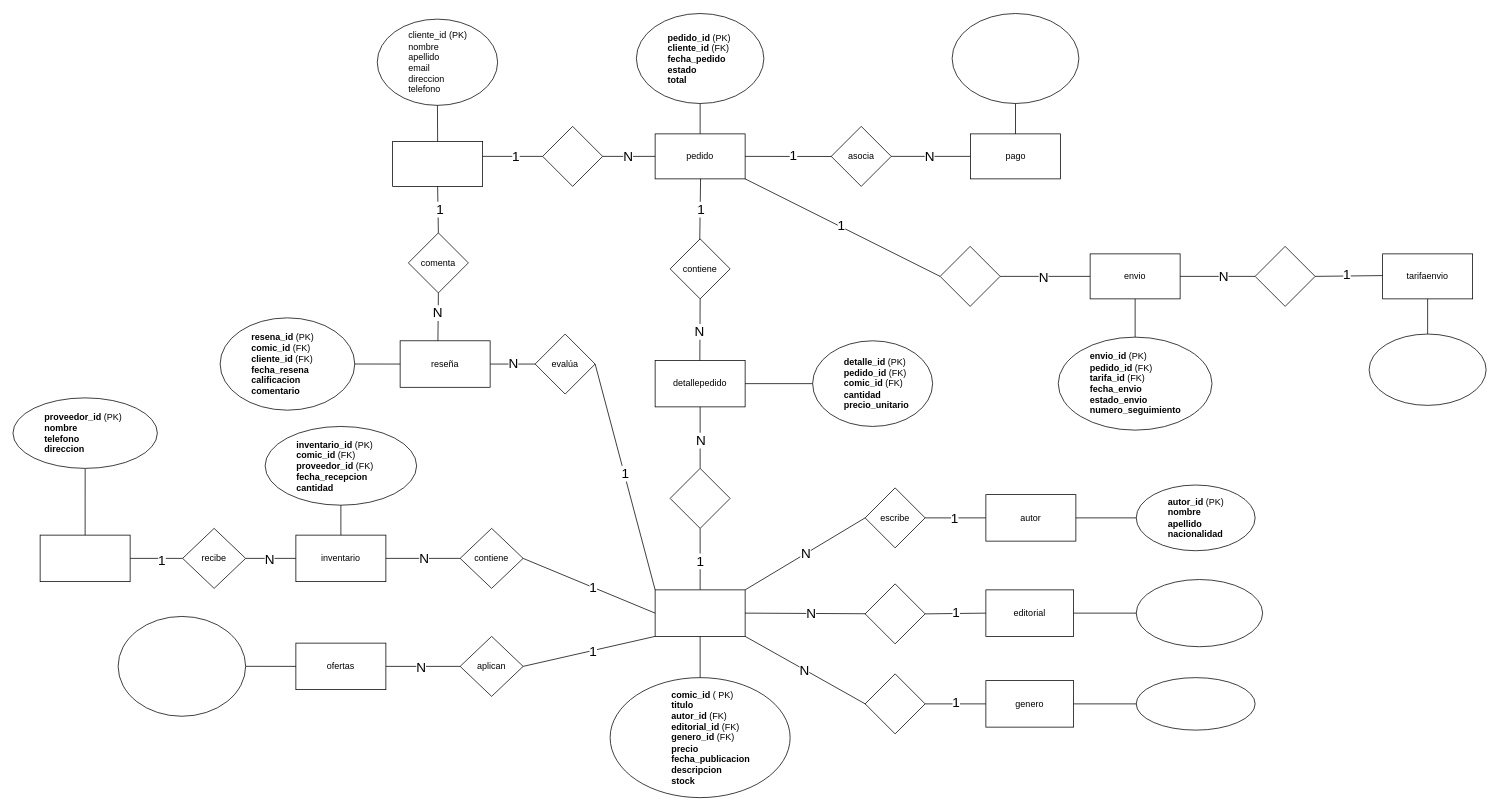
Some shapes in this 1505 by 811 pixel diagram are drawn without their labels. Here are the shapes that lost their labels. From the top down, the box of each, then its label:
(951, 13, 1079, 104): pago_id (PK) pedido_id (FK) fecha_pago monto metodo_pago
(392, 141, 483, 186): cliente
(542, 126, 603, 186): realiza
(939, 246, 1000, 306): genera
(1254, 246, 1315, 306): define
(1368, 333, 1486, 405): tarifa_id (PK) zona costo metodo_envio
(669, 468, 730, 528): incluye
(39, 534, 130, 582): proveedor
(654, 589, 745, 636): comic
(864, 583, 925, 644): publica
(1136, 579, 1263, 647): editorial_id (PK) nombre pais telefono
(117, 616, 246, 716): oferta_id (PK) comic_id (FK) descuento fecha_inicio fecha_fin
(864, 673, 925, 734): clasifica
(1136, 677, 1255, 730): genero_id (PK) nombre
